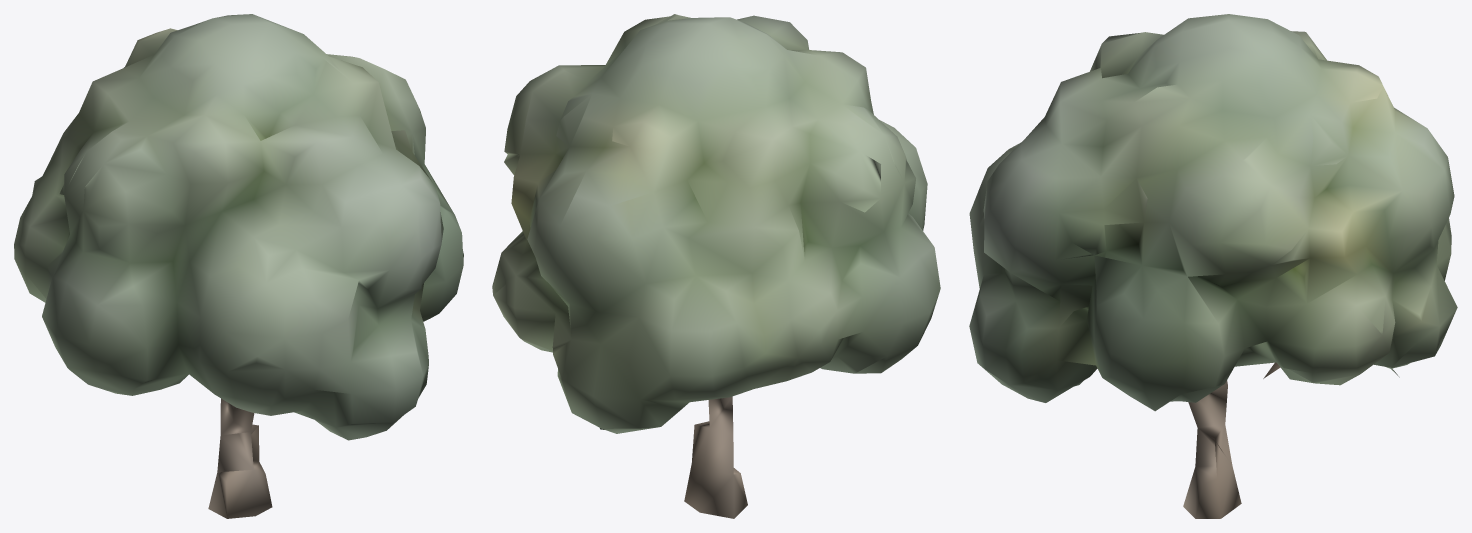
The model's file is arvore_comum.glb.
The picture shows the model from 3 angles, left to right: view 1: azimuth 30°, elevation 25°; view 2: azimuth 150°, elevation 25°; view 3: azimuth 270°, elevation 25°; orthographic projection. The views are drawn at different scales.
Size of the model in its own units: 5.29 by 6.2 by 5.63.
